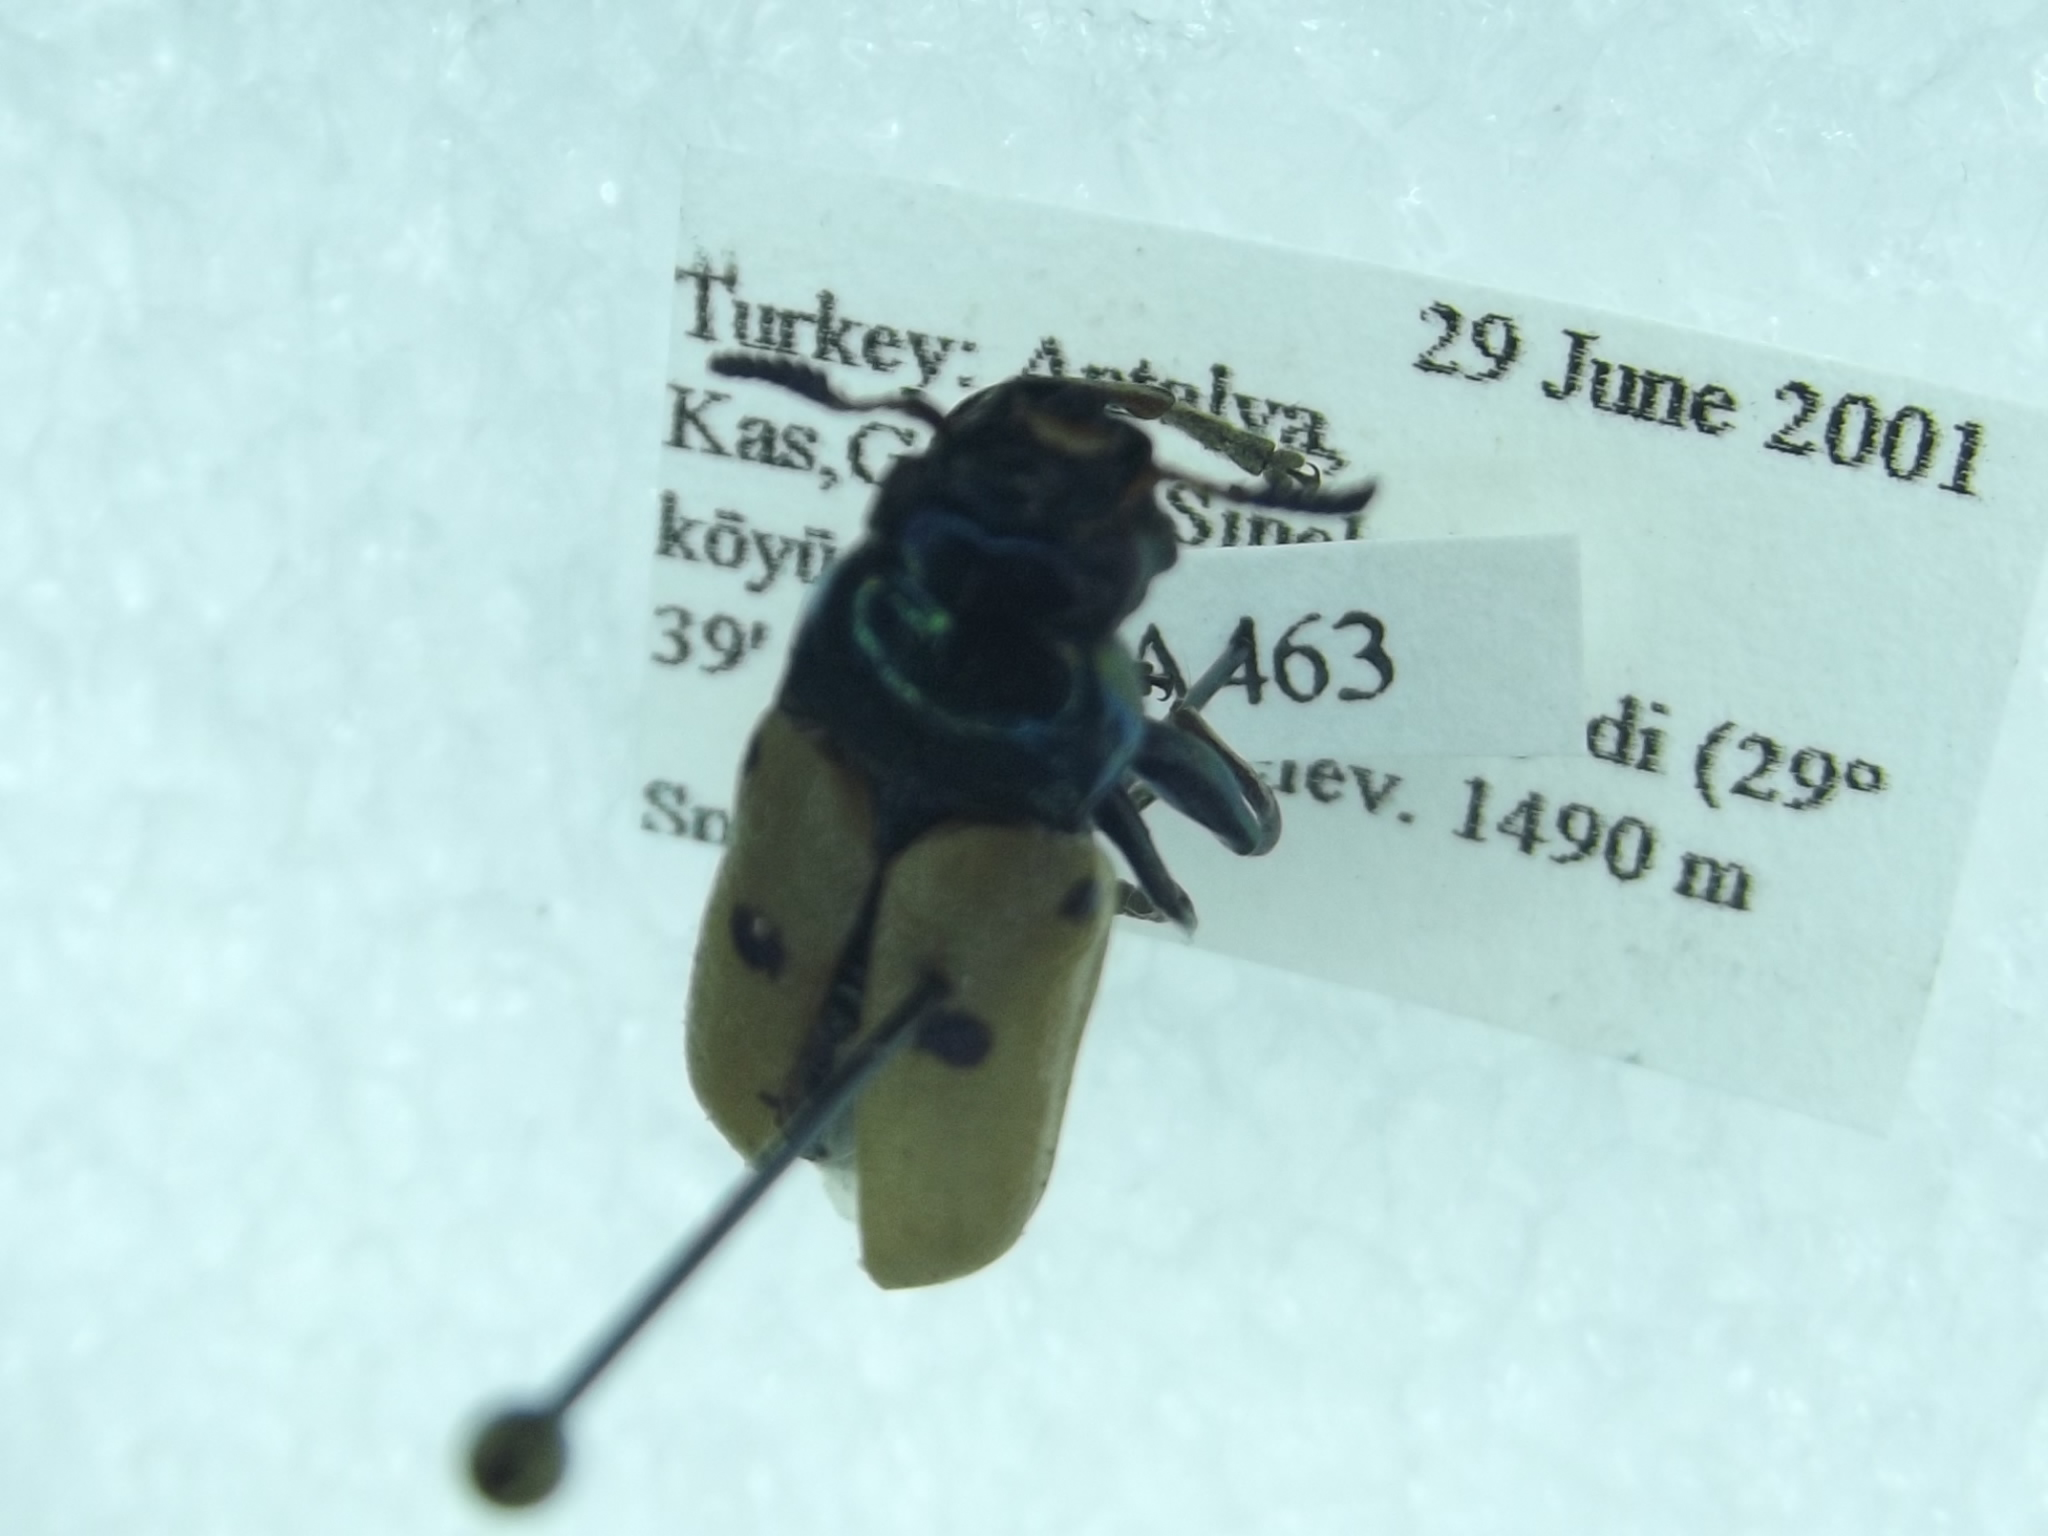Labidostomis_maculipennis: (676, 361, 1400, 1342)
